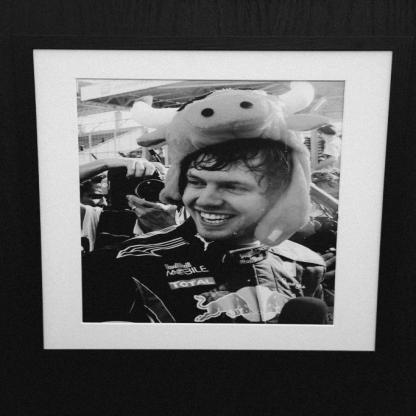picture frame: (33, 50, 404, 387)
